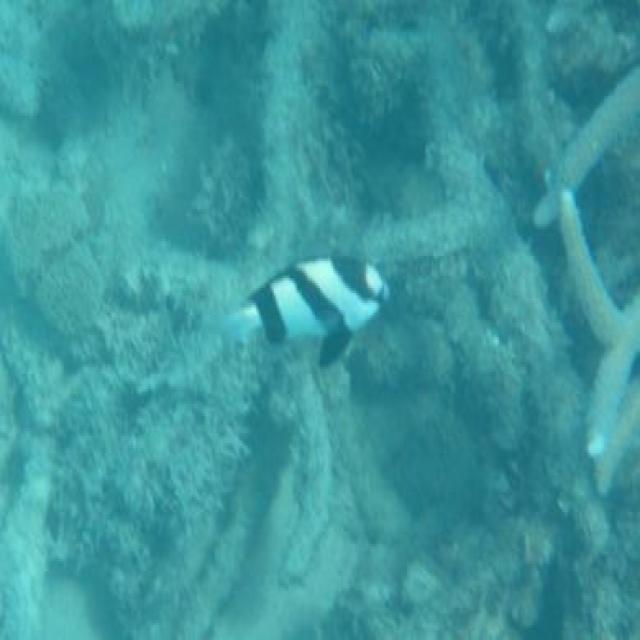Three_striped DasmselFish: (230, 253, 391, 370)
